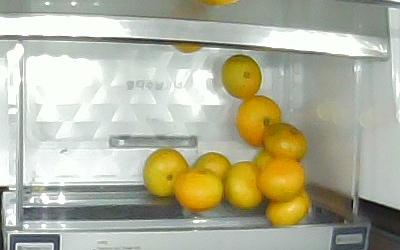tangerine: (235, 96, 283, 146), (173, 167, 225, 212), (144, 148, 189, 197), (258, 158, 305, 201), (222, 54, 264, 100), (225, 161, 265, 208), (262, 123, 309, 161), (191, 151, 233, 185), (266, 194, 307, 227)
